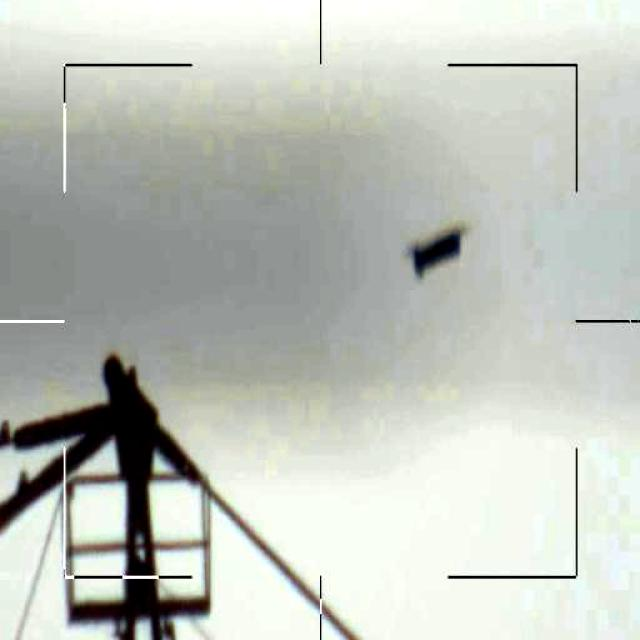bird: (401, 230, 460, 275)
